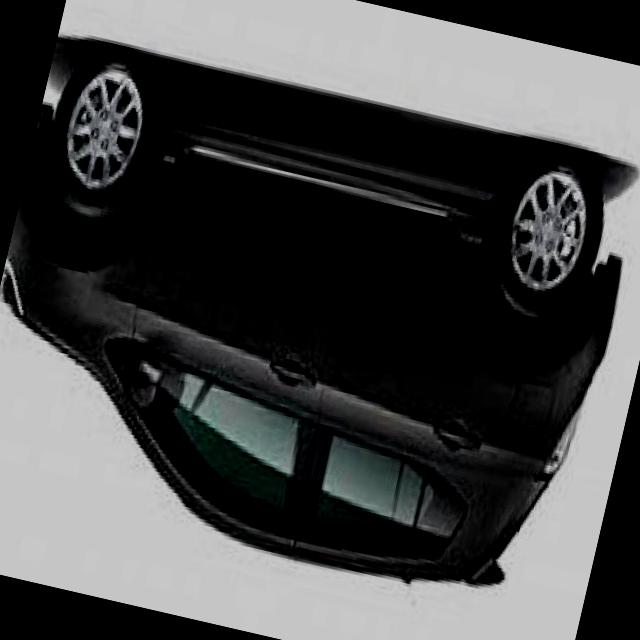PeroduaAxia: (0, 31, 640, 621)
